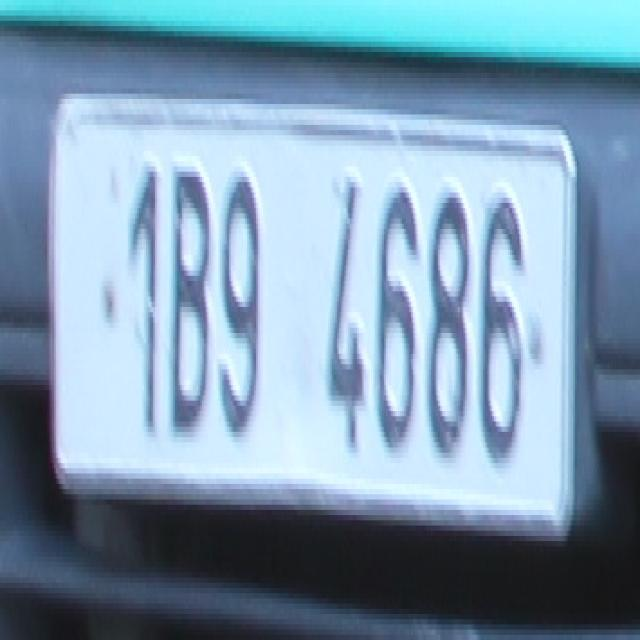1: (124, 161, 157, 432)
4: (324, 166, 366, 448)
6: (476, 182, 526, 463), (372, 177, 418, 453)
8: (425, 182, 469, 453)
9: (216, 161, 262, 437)
B: (166, 161, 209, 432)
